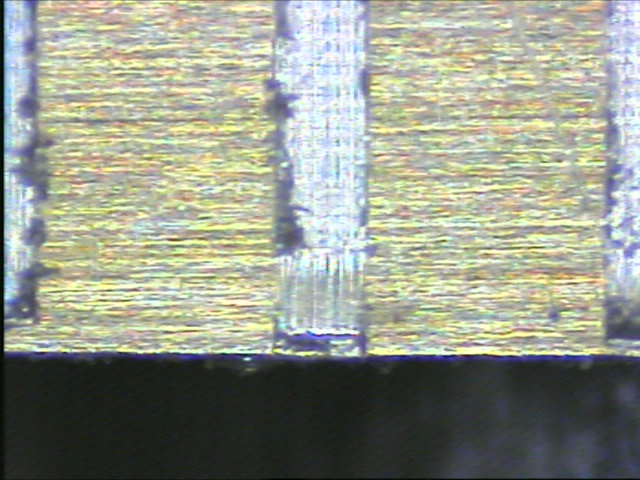line: (271, 1, 370, 360)
